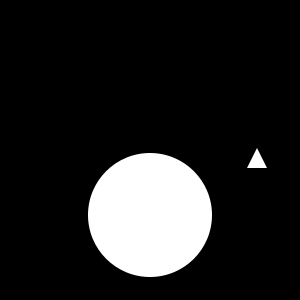rectangle: (88, 153, 212, 277)
triangle: (247, 148, 267, 168)
